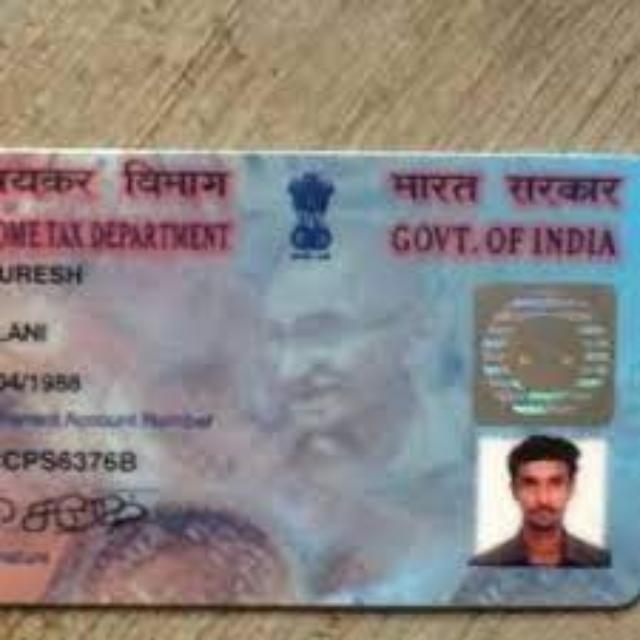pan: (0, 142, 640, 620)
